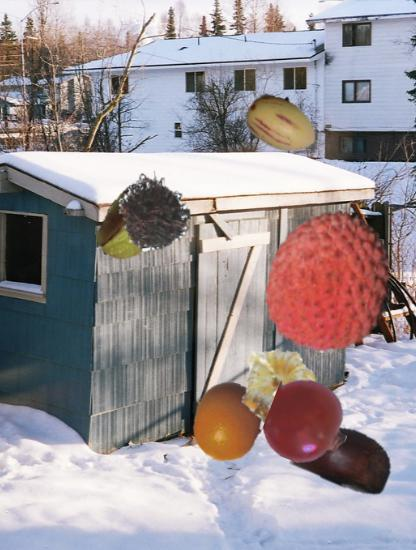Carambula: (92, 182, 176, 266)
Chestnut: (295, 407, 395, 507)
Grapefruit: (189, 382, 269, 462)
Lychee: (257, 208, 402, 353)
Pepino: (245, 86, 320, 161)
Physalis: (233, 340, 333, 440)
Rambutan: (113, 170, 196, 253)
Redcurrant: (267, 382, 350, 465)
